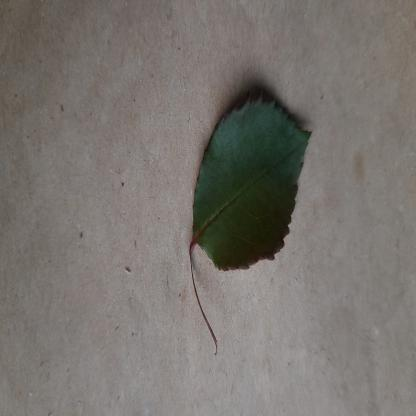normal: (192, 93, 314, 277)
